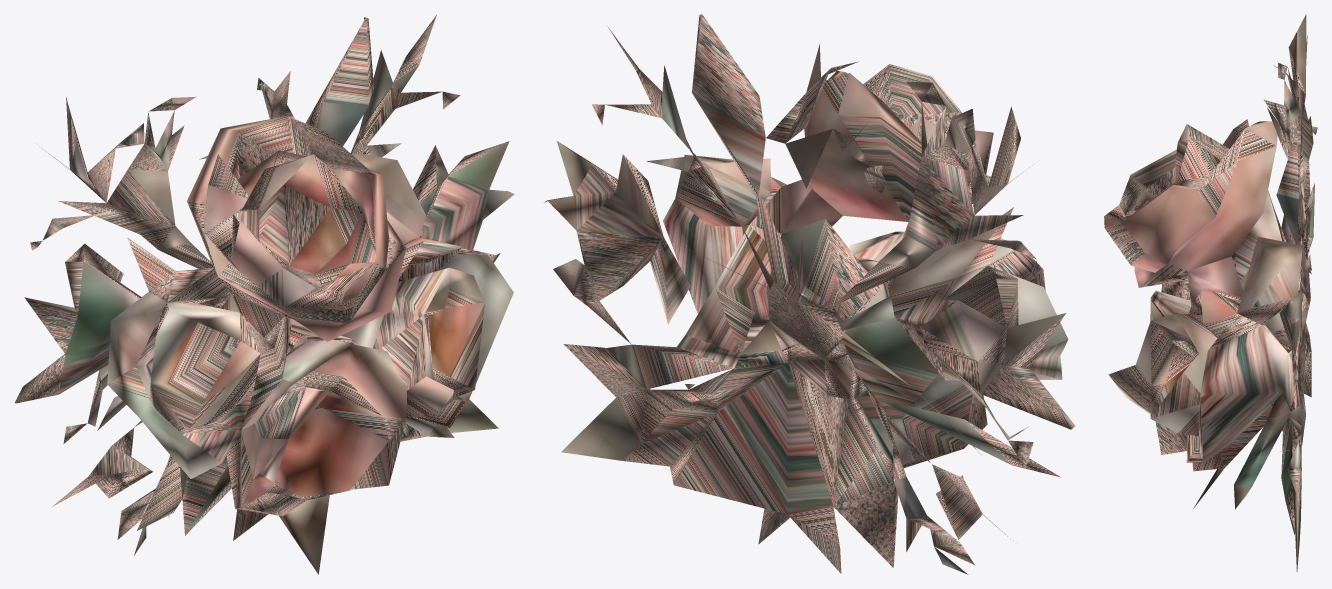
The picture shows the model from 3 angles, left to right: view 1: azimuth 30°, elevation 25°; view 2: azimuth 150°, elevation 25°; view 3: azimuth 270°, elevation 25°; orthographic projection. The views are drawn at different scales.
Visible parts, largest first — view 1: Rose-Bouquet-9-16; view 2: Rose-Bouquet-9-16; view 3: Rose-Bouquet-9-16.
Boxes of the visible parts, left/top/right/bottom form: Rose-Bouquet-9-16: left=14, top=15, right=514, bottom=574; Rose-Bouquet-9-16: left=544, top=14, right=1074, bottom=574; Rose-Bouquet-9-16: left=1104, top=14, right=1317, bottom=572.
Size of the model in its own units: 0.3335 by 0.3148 by 0.1416.
1 material, 1 textured.
